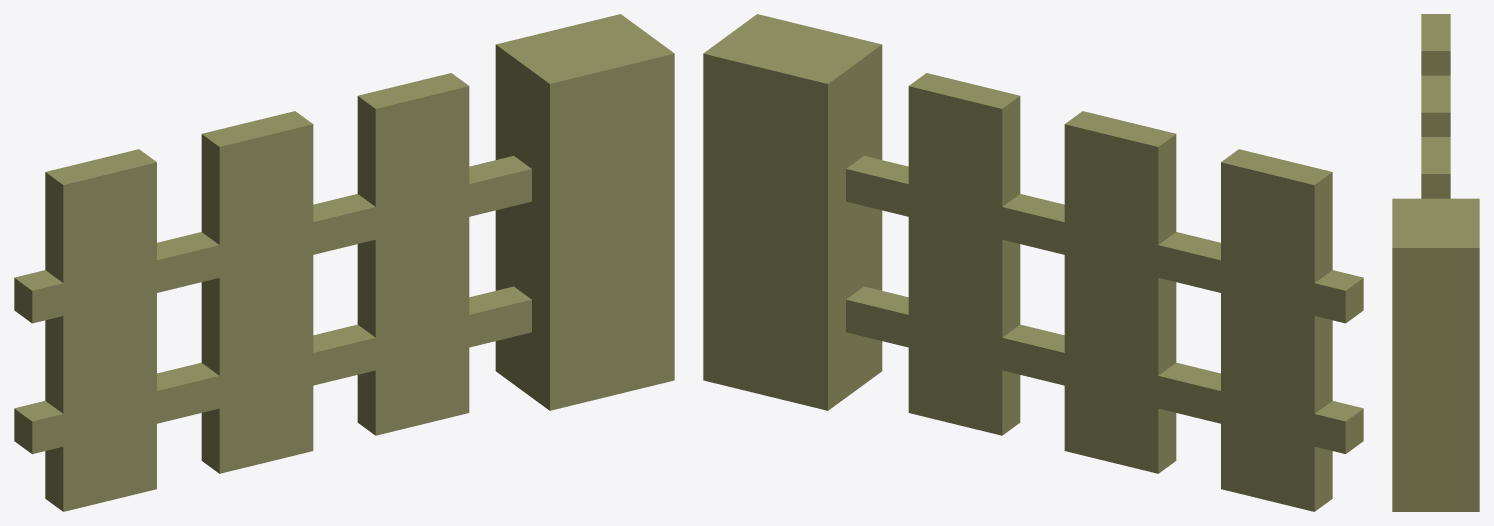
The model's file is fence_long_20.dae.
3 views of the same model, side by side, from view 1: azimuth 30°, elevation 25°; view 2: azimuth 150°, elevation 25°; view 3: azimuth 270°, elevation 25° (orthographic). The views are drawn at different scales.
Visible parts, largest first — view 1: fence_long_20; view 2: fence_long_20; view 3: fence_long_20.
Boxes of the visible parts, <box> form: fence_long_20: <box>14,14,674,511</box>; fence_long_20: <box>703,14,1363,511</box>; fence_long_20: <box>1392,14,1479,511</box>.
Size of the model in its own units: 2 by 0.3 by 1.
1 material, 1 textured.
